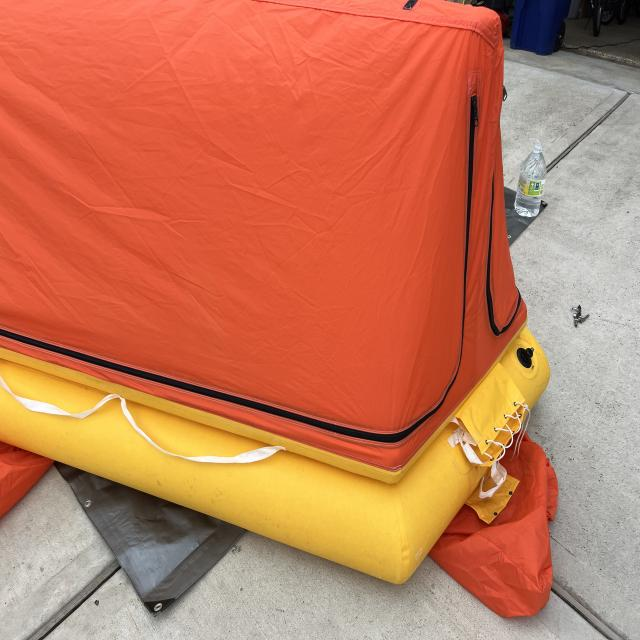Multi-person_life_raft: (0, 2, 558, 620)
